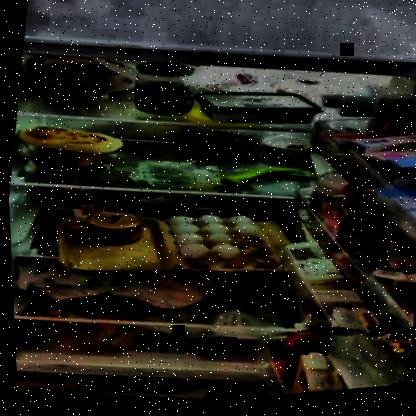cream_cheese: (194, 86, 317, 138)
eggs: (164, 212, 254, 268)
green_chillies: (212, 163, 313, 203)
milk: (289, 354, 362, 397)
olives: (178, 129, 260, 167)
red_onion: (44, 82, 87, 111)
